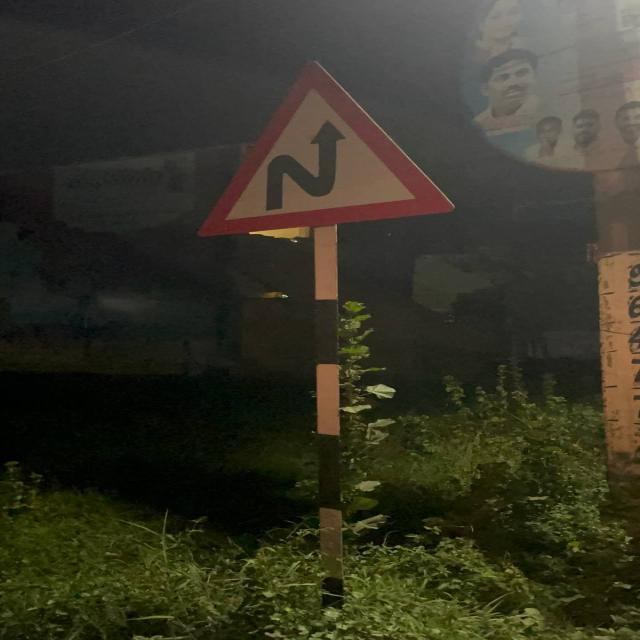right reverse bend: (196, 63, 456, 231)
